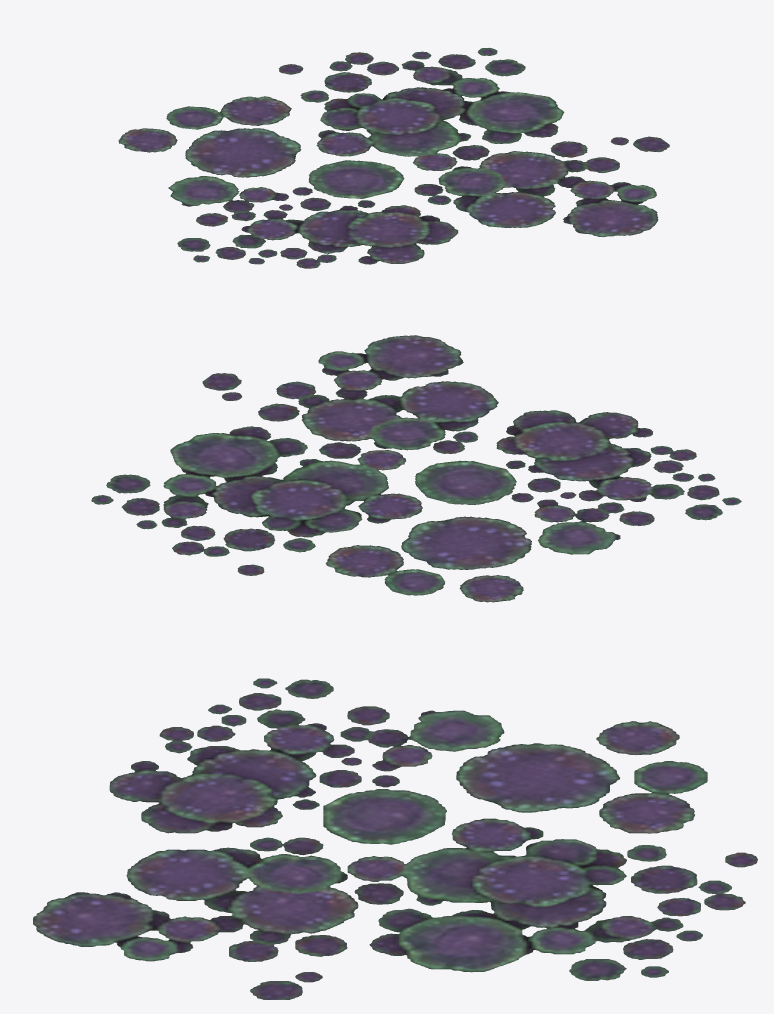
File: SJHD_plant_03.FBX
3 renders of one model, top to bottom at view 1: azimuth 30°, elevation 25°; view 2: azimuth 150°, elevation 25°; view 3: azimuth 270°, elevation 25°, orthographic. The views are drawn at different scales.
Visible parts, largest first — view 1: SJHD_plant_03; view 2: SJHD_plant_03; view 3: SJHD_plant_03.
Part boxes in pixels (bbox=[...]): SJHD_plant_03: bbox=[118, 47, 669, 268]; SJHD_plant_03: bbox=[91, 335, 741, 602]; SJHD_plant_03: bbox=[33, 678, 757, 999].
Bounding box in the file's own units: 193 × 3.08e-05 × 189.
